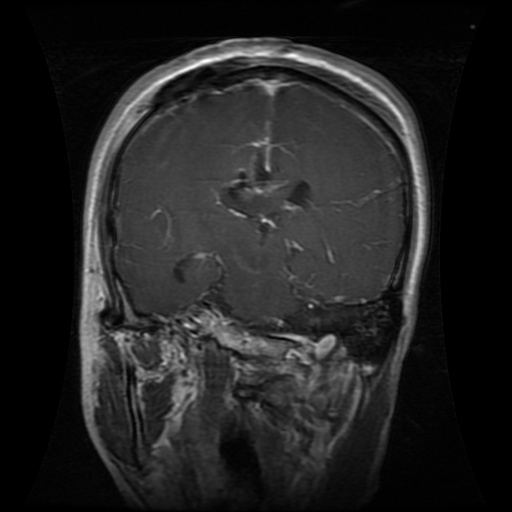glioma: (210, 119, 316, 246)
